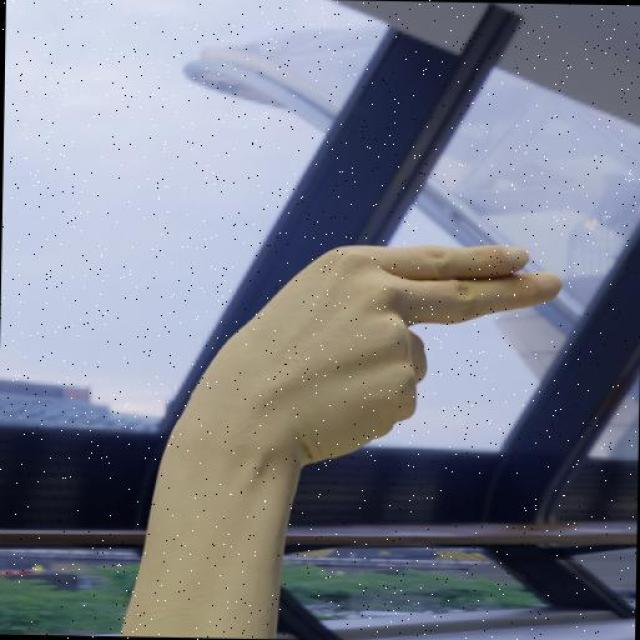H: (178, 240, 566, 465)
